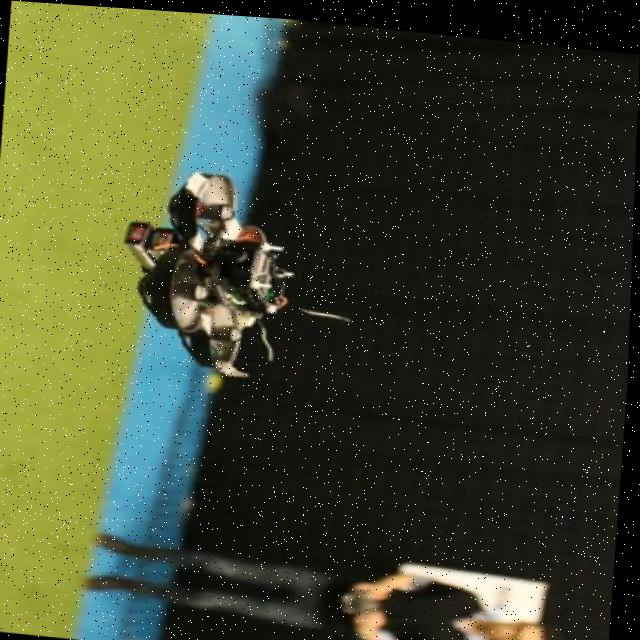drones: (102, 150, 366, 396)
